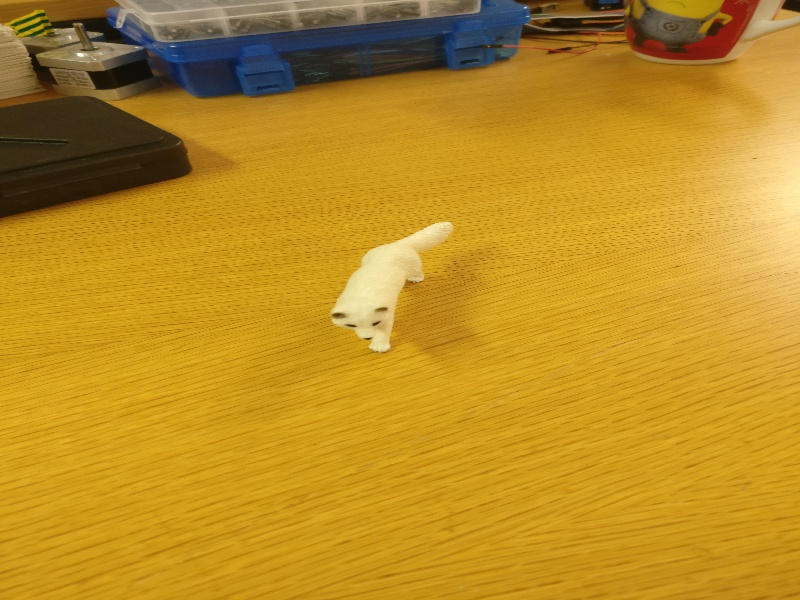toy: (323, 204, 460, 359)
